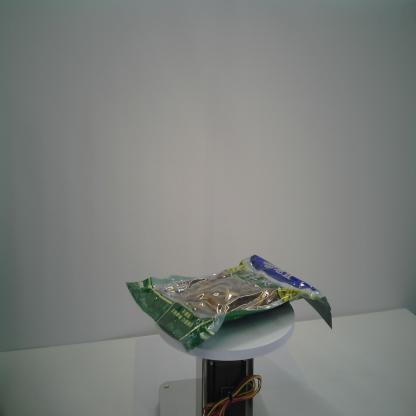Dried Food: (125, 254, 333, 352)
